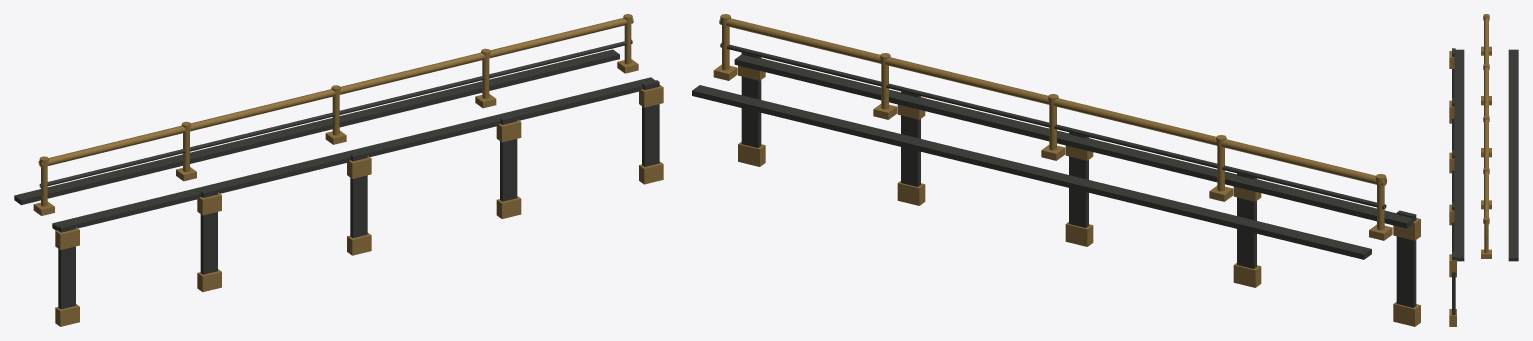
Rendered from parapet_rail_8.glb.
The picture shows the model from 3 angles, left to right: view 1: azimuth 30°, elevation 25°; view 2: azimuth 150°, elevation 25°; view 3: azimuth 270°, elevation 25°; orthographic projection. The views are drawn at different scales.
Parts seen in each view (by area): view 1: parapet_rail_8; view 2: parapet_rail_8; view 3: parapet_rail_8.
Boxes of the visible parts, <box> form: parapet_rail_8: <box>14,14,663,326</box>; parapet_rail_8: <box>692,14,1420,326</box>; parapet_rail_8: <box>1449,14,1518,326</box>.
Bounding box in the file's own units: 8.06 × 1.88 × 1.12.
